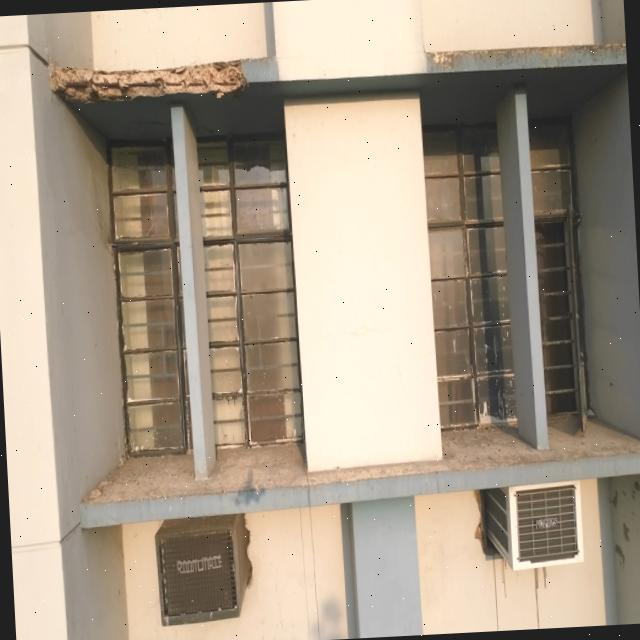Paint Peeling: (427, 24, 627, 85)
Spalling: (48, 52, 250, 103)
